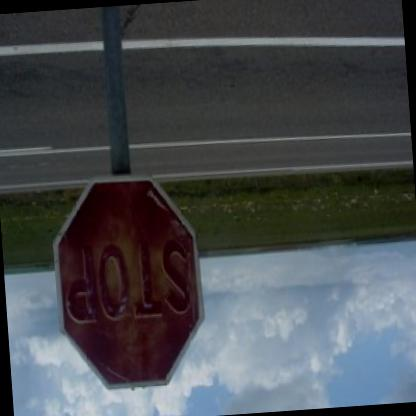stop: (50, 174, 213, 397)
